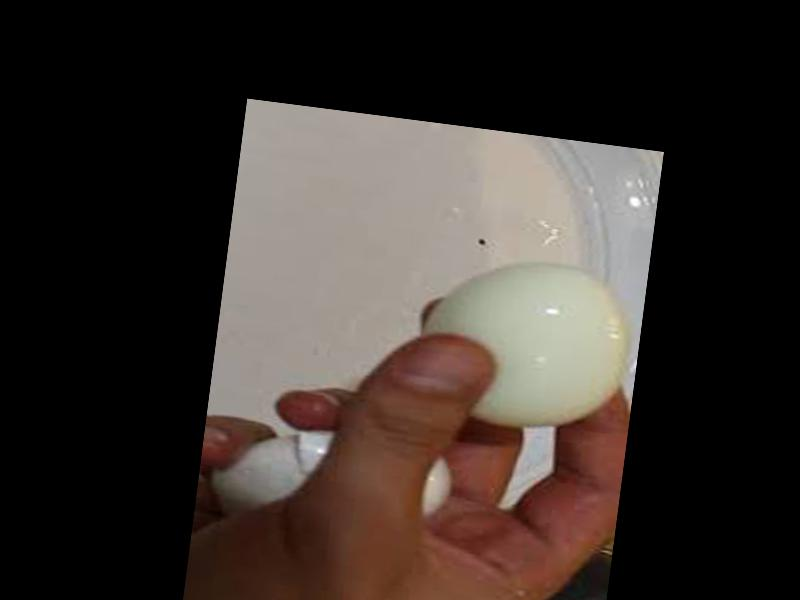Eggs: (410, 252, 644, 440)
